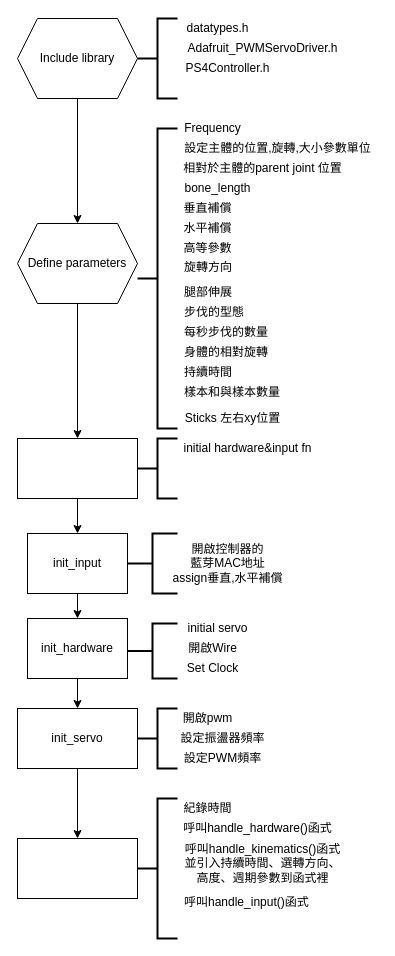
Image size: 395x956. Some labels were removed from this diagram. The shapes that lost their labels are listed below. From the top down, each one's centre as x and y in pixels, then its label:
the point at 77,468: Setup
the point at 77,868: Loop
